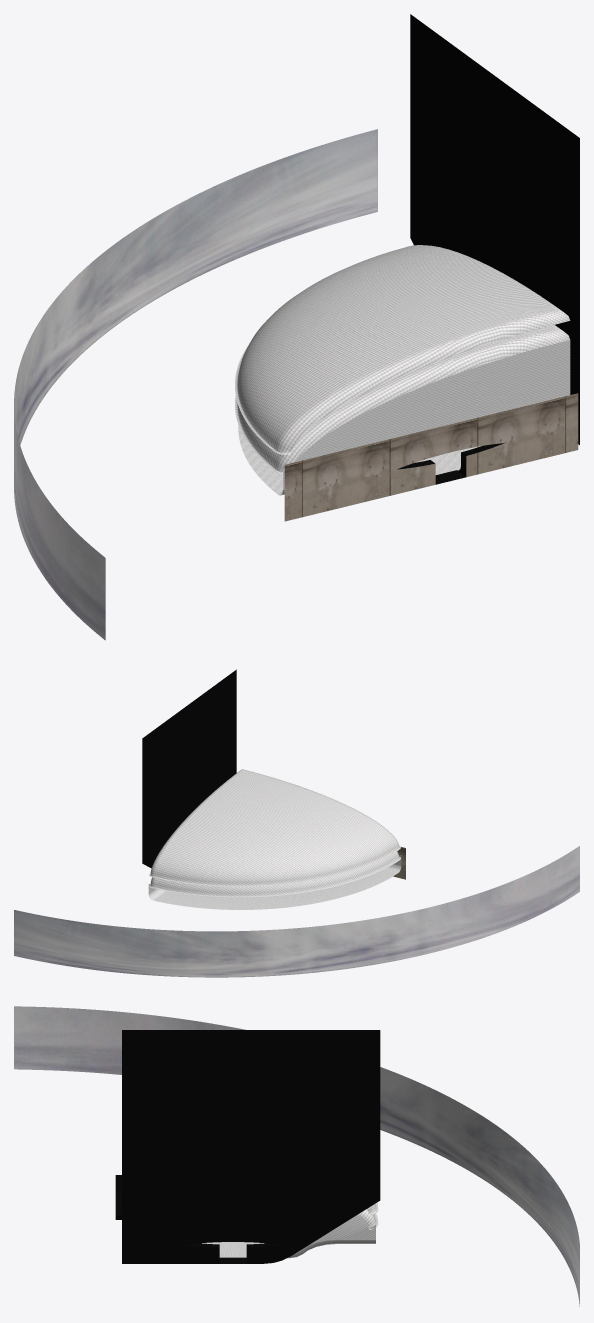
Rendered from padded_room.fbx.
3 renders of one model, top to bottom at view 1: azimuth 30°, elevation 25°; view 2: azimuth 150°, elevation 25°; view 3: azimuth 270°, elevation 25°, orthographic. The views are drawn at different scales.
Parts seen in each view (by area): view 1: polySurface710; view 2: polySurface710; view 3: polySurface710.
Boxes of the visible parts, <box> form: polySurface710: <box>14,14,579,640</box>; polySurface710: <box>14,669,579,977</box>; polySurface710: <box>14,1006,579,1306</box>.
Bounding box in the file's own units: 21.92 × 10.35 × 21.92.
